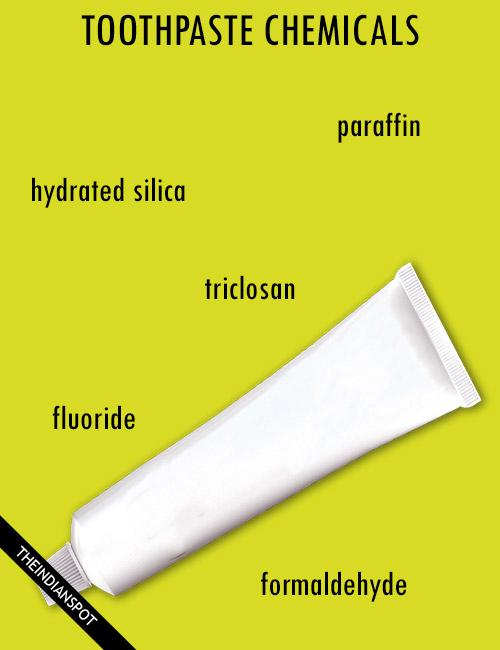toothpaste: (23, 254, 487, 611)
